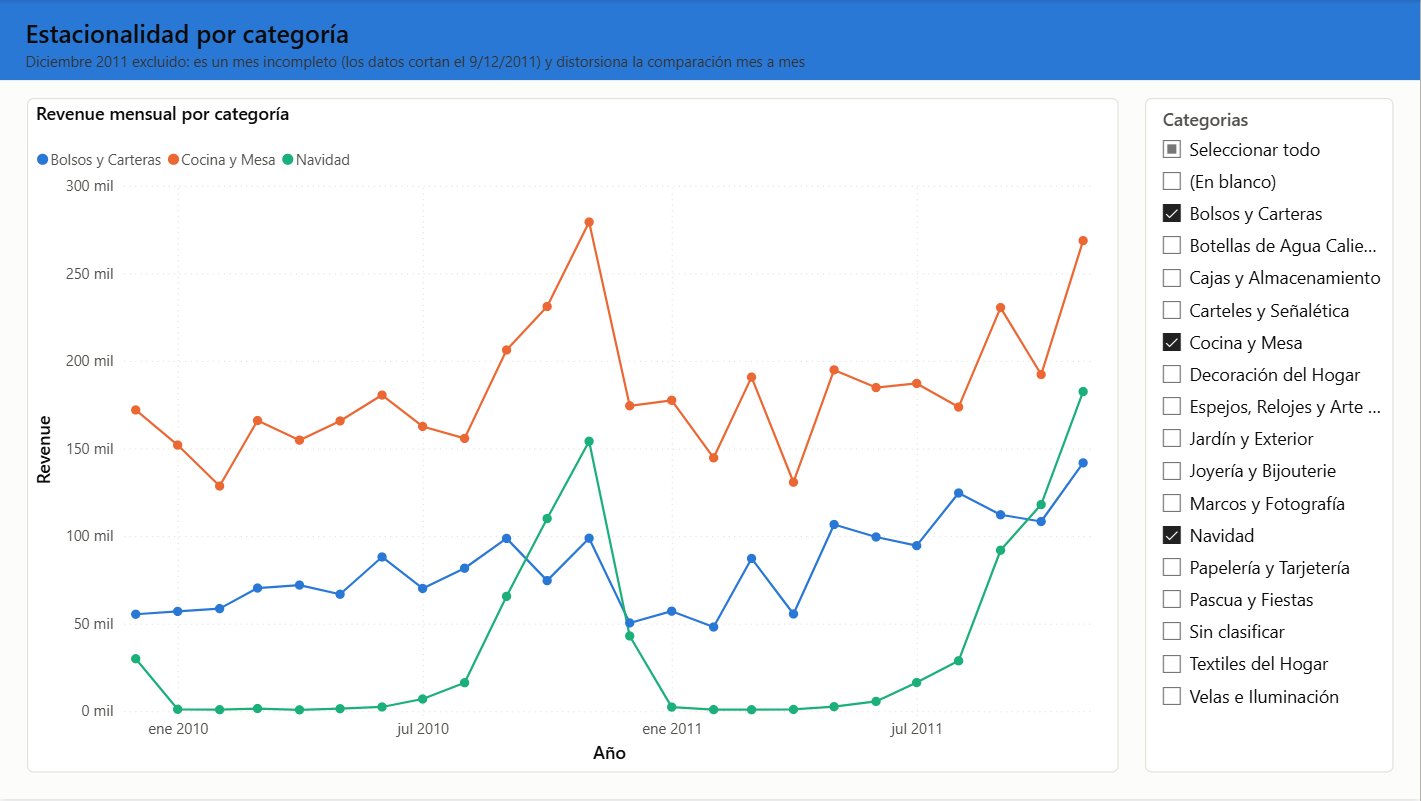

The page's visual inventory and layout, read from the dashboard file:
{"tool":"powerbi","page":{"name":"Estacionalidad","canvas":[1280,720],"ordinal":1},"visuals":[{"type":"shape","box":[0,0,1280,72],"z":0},{"type":"shape","box":[0,71,1280,1],"z":1000},{"type":"textbox","box":[18.4,9.7,619.9,42.1],"z":2000},{"type":"textbox","box":[18.4,41.3,779.7,29.9],"z":3000},{"type":"lineChart","title":"Revenue mensual por categoría","fields":{"Category":["dim_fecha.anio_mes.Variación.Jerarquía de fechas.Año","dim_fecha.anio_mes.Variación.Jerarquía de fechas.Trimestre","dim_fecha.anio_mes.Variación.Jerarquía de fechas.Mes","dim_fecha.anio_mes.Variación.Jerarquía de fechas.Día"],"Y":["Medidas.Revenue (meses completos)"],"Series":["dim_producto.categoria_final"]},"box":[24,88,984,608],"z":4000},{"type":"slicer","fields":{"Values":["dim_producto.categoria_final"]},"box":[1032,88,224,608],"z":5000}]}

Visuals, with their boxes in screenshot pixels (x1, y1, x2, y2), scaled from the page's 1280x720 canvas onto the 1421x801 screenshot:
shape: box(0, 0, 1420, 80)
shape: box(0, 79, 1420, 80)
textbox: box(20, 11, 709, 58)
textbox: box(20, 46, 886, 79)
"Revenue mensual por categoría" lineChart: box(27, 98, 1119, 774)
slicer - dim_producto.categoria_final: box(1146, 98, 1394, 774)
